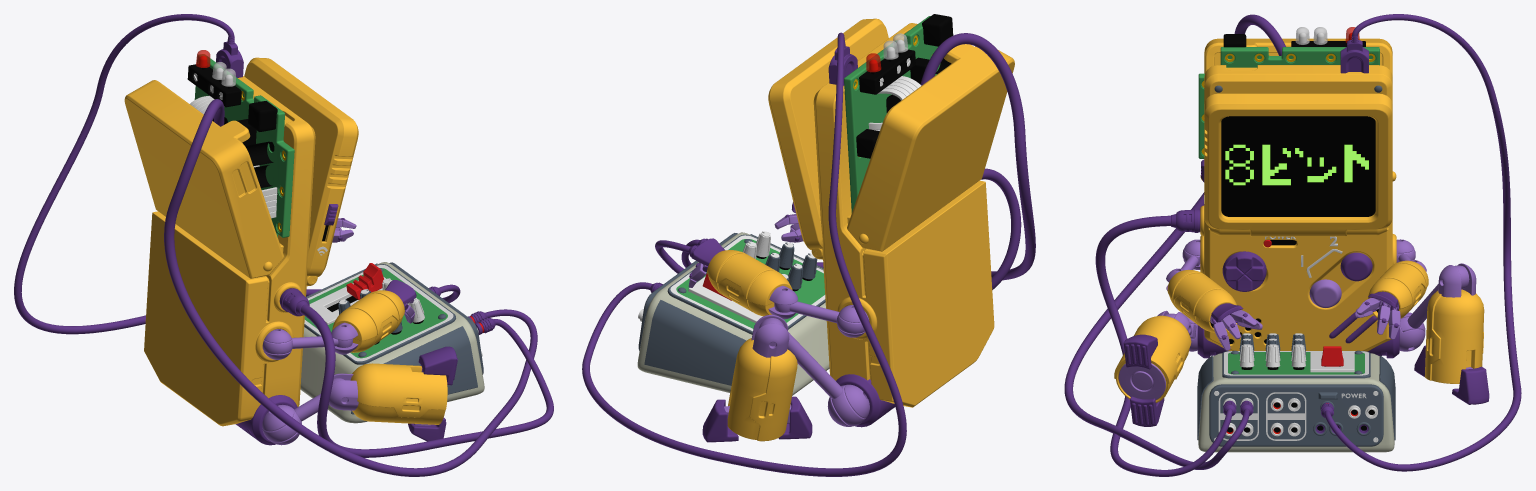
File: ChipBoy_SF.glb
The picture shows the model from 3 angles, left to right: view 1: azimuth 30°, elevation 25°; view 2: azimuth 150°, elevation 25°; view 3: azimuth 270°, elevation 25°; orthographic projection. The views are drawn at different scales.
Visible parts, largest first — view 1: Cube.001, Cube.002, Cube.026, Cube, BezierCurve.005, Cylinder.021, BezierCurve.004, BezierCurve.003, Cube.003, Cylinder.013, Cube.015, Cube.016 (+6 smaller); view 2: Cube.001, Cube.002, Cube.026, Cube, BezierCurve.004, Cylinder.066, BezierCurve.005, Cube.003, Cylinder.068, Cube.031, BezierCurve.003, Cube.016 (+12 smaller); view 3: Cube, Cube.001, Cube.026, BezierCurve.004, Cylinder.066, BezierCurve.005, Cylinder.021, BezierCurve.003, Cube.003, Cylinder.013, Cube.076, Cylinder.068 (+12 smaller).
Boxes of the visible parts, box(x1,y1,x2,y2) form: Cube.001: box(144, 76, 315, 426); Cube.002: box(124, 80, 283, 278); Cube.026: box(300, 262, 484, 423); Cube: box(244, 57, 358, 276); BezierCurve.005: box(164, 99, 537, 476); Cylinder.021: box(350, 363, 447, 424); BezierCurve.004: box(14, 14, 460, 334); BezierCurve.003: box(300, 304, 553, 457); Cube.003: box(194, 54, 294, 237); Cylinder.013: box(332, 290, 404, 352); Cube.015: box(408, 346, 457, 441); Cube.016: box(187, 64, 241, 107); Cube.001: box(813, 23, 994, 407); Cube.002: box(847, 44, 1014, 251); Cube.026: box(637, 232, 829, 395); Cube: box(768, 18, 888, 249); BezierCurve.004: box(582, 32, 906, 476); Cylinder.066: box(727, 338, 797, 441); BezierCurve.005: box(655, 33, 1035, 280); Cube.003: box(844, 16, 940, 212); Cylinder.068: box(707, 250, 792, 316); Cube.031: box(702, 396, 812, 442); BezierCurve.003: box(681, 168, 1021, 289); Cube.016: box(859, 49, 915, 94); Cube: box(1204, 93, 1392, 236); Cube.001: box(1200, 65, 1396, 351); Cube.026: box(1197, 351, 1395, 452); BezierCurve.004: box(1324, 14, 1521, 471); Cylinder.066: box(1424, 289, 1484, 383); BezierCurve.005: box(1064, 14, 1285, 469); Cylinder.021: box(1114, 315, 1191, 402); BezierCurve.003: box(1095, 215, 1232, 476); Cube.003: box(1198, 47, 1379, 158); Cylinder.013: box(1167, 269, 1236, 332); Cube.076: box(1225, 144, 1368, 185); Cylinder.068: box(1368, 260, 1428, 318).
Bounding box in the file's own units: 4.08 × 3.76 × 4.35.
